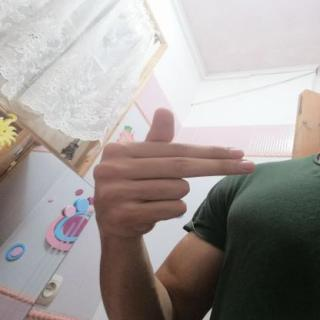GHAYN: (78, 100, 270, 248)
